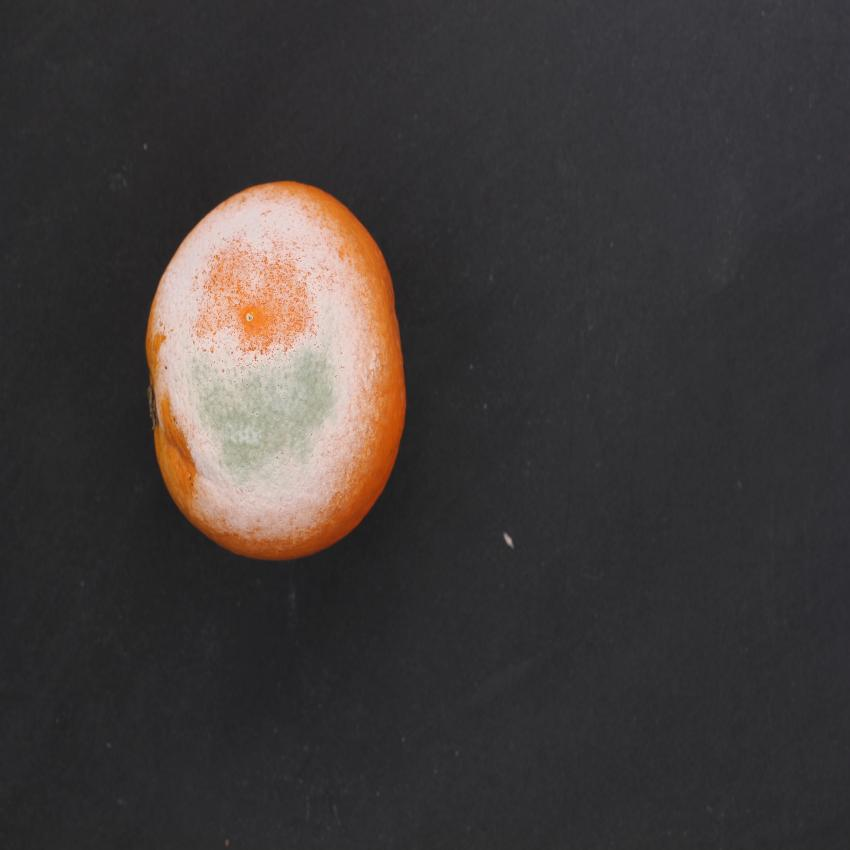Mal estado: (138, 148, 420, 570)
